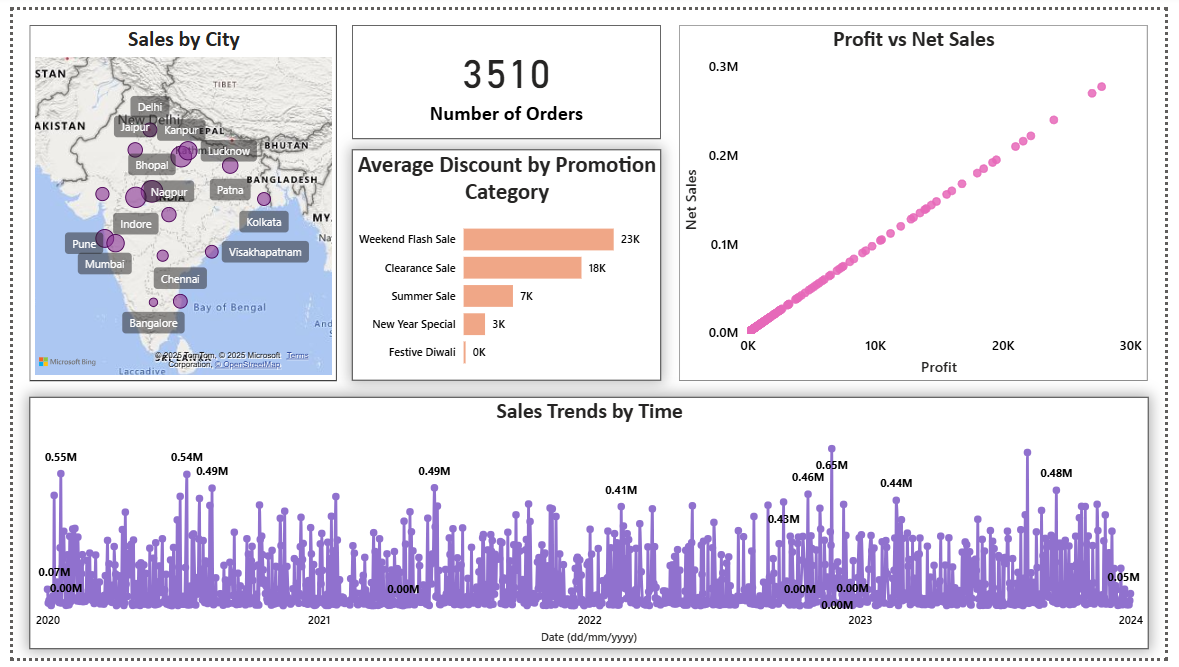

This screenshot's page, from the dashboard's own definition file:
{"tool":"powerbi","page":{"name":"Sales Trend Over Time","canvas":[1280,720],"ordinal":0},"visuals":[{"type":"lineChart","title":"Sales Trends by Time","fields":{"Y":["Sum(Fact Table.Net Sales)"],"Category":["Fact Table.Date (dd/mm/yyyy).Variation.Date Hierarchy.Year"]},"box":[18.3,430,1243.3,280],"z":0},{"type":"scatterChart","title":"Profit vs Net Sales","fields":{"X":["Fact Table.Profit"],"Y":["Fact Table.Net Sales"]},"box":[740.1,16.3,520.5,395.3],"z":1000},{"type":"barChart","title":"Average Discount by Promotion Category","fields":{"Y":["Avg(Fact Table.Discount Value)"],"Category":["Dim Promotion.Promotion Name"]},"box":[377.4,154.5,343.2,257],"z":2000},{"type":"map","title":" Sales by City","fields":{"Category":["Dim Customers.City"],"Size":["Sum(Fact Table.Net Sales)"]},"box":[17.9,16.3,341.6,395.3],"z":3000},{"type":"card","fields":{"Values":["Count(Fact Table.Order ID)"]},"box":[377.4,16.3,343.2,126.9],"z":4000}]}

Visuals, with their boxes in screenshot pixels (x1, y1, x2, y2), scaled from the page's 1280x720 canvas onto the 1179x667 screenshot:
"Sales Trends by Time" lineChart: 17:398:1162:658
"Profit vs Net Sales" scatterChart: 682:15:1161:381
"Average Discount by Promotion Category" barChart: 348:143:664:381
" Sales by City" map: 16:15:331:381
card - Count(Fact Table.Order ID): 348:15:664:133
